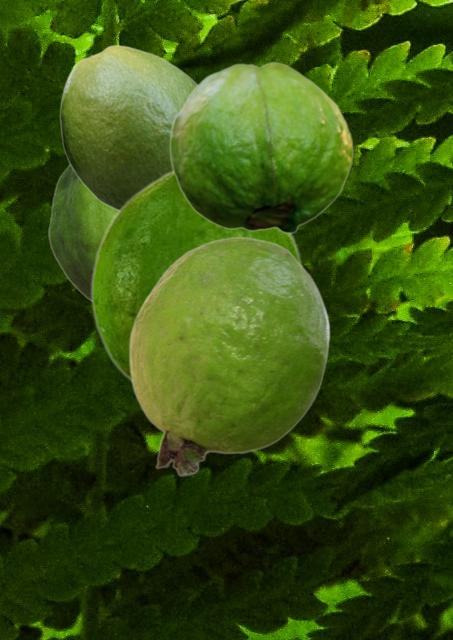guava: (90, 169, 302, 454), (128, 236, 329, 476), (169, 61, 352, 233), (59, 44, 196, 210), (47, 164, 115, 300)
